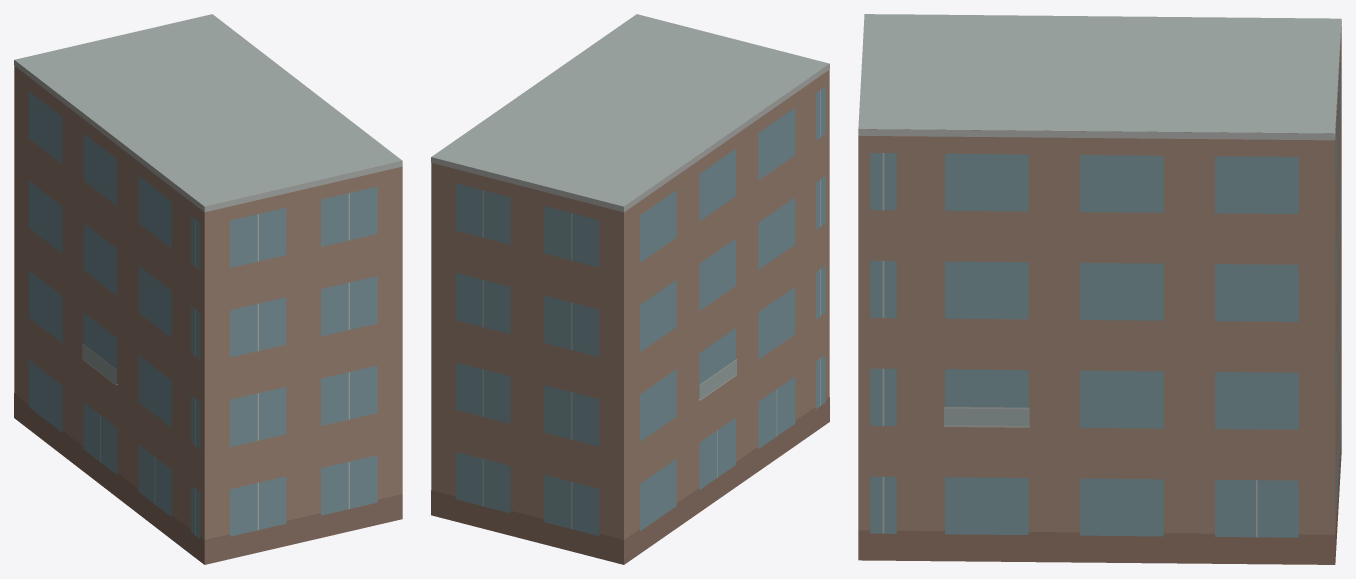
Rendered from survey-upis-32995712.glb.
3 renders of one model, left to right at view 1: azimuth 30°, elevation 25°; view 2: azimuth 150°, elevation 25°; view 3: azimuth 270°, elevation 25°, orthographic. The views are drawn at different scales.
Parts seen in each view (by area): view 1: survey-upis-32995712.tmp; view 2: survey-upis-32995712.tmp; view 3: survey-upis-32995712.tmp.
Part boxes in pixels (bbox=[...]): survey-upis-32995712.tmp: bbox=[14, 14, 402, 564]; survey-upis-32995712.tmp: bbox=[431, 14, 829, 564]; survey-upis-32995712.tmp: bbox=[858, 14, 1341, 564].
Size of the model in its own units: 9.1 by 15.3 by 15.54.
